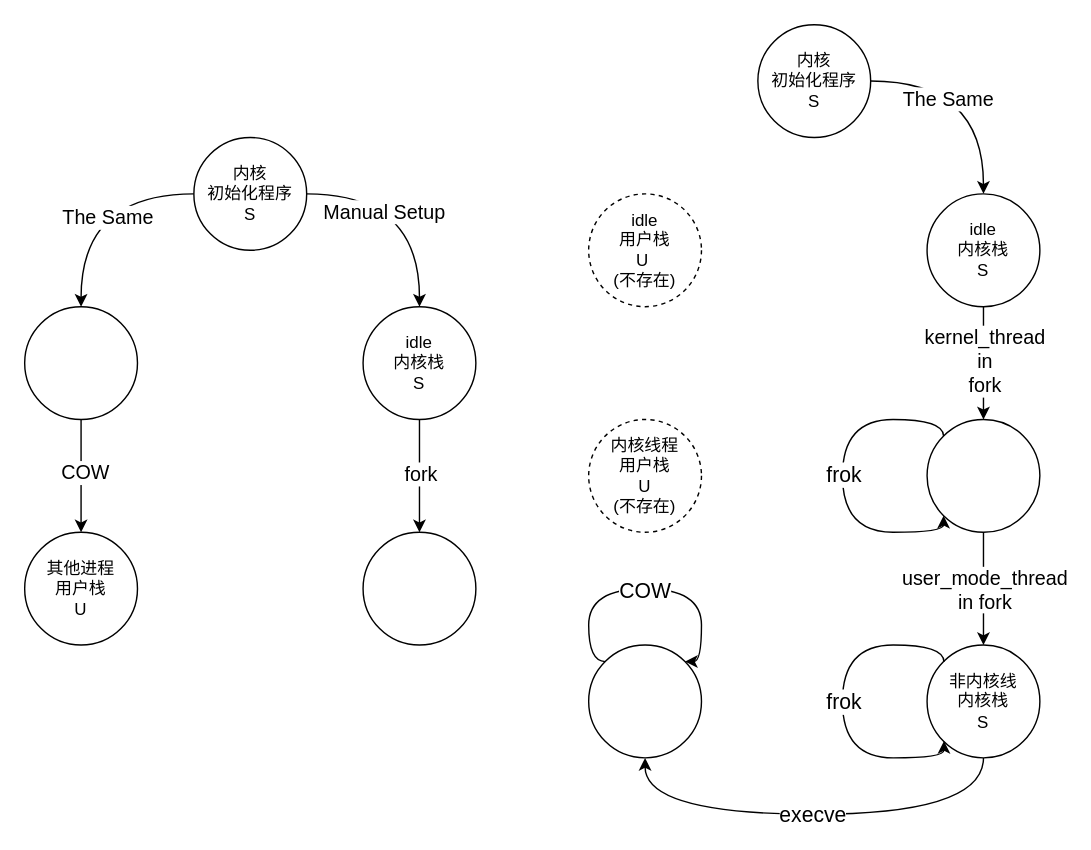
Image size: 1091x850. Some labels were removed from this diagram. Here are the shapes that lost their labels. From the top down, the centre of each, then its label:
(80,362): idle 用户栈 U
(983,475): 内核线程 内核栈 S
(419,588): 其他进程 内核栈 S
(644,701): 非内核线 用户栈 U
